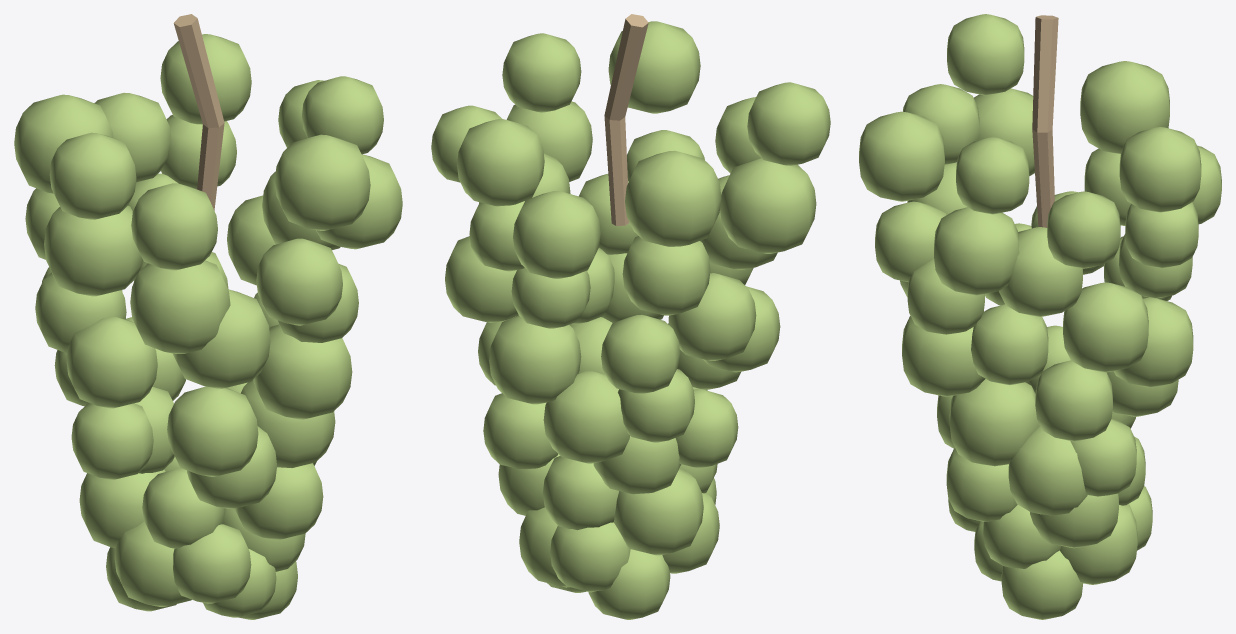
File: fresh-produce-and-groceries-grapes-green-bunch-e1f5c8d1__24347.glb
The picture shows the model from 3 angles, left to right: view 1: azimuth 30°, elevation 25°; view 2: azimuth 150°, elevation 25°; view 3: azimuth 270°, elevation 25°; orthographic projection. The views are drawn at different scales.
Visible parts, largest first — view 1: grapes-green-bunch; view 2: grapes-green-bunch; view 3: grapes-green-bunch.
Boxes of the visible parts, bbox=[...] form: grapes-green-bunch: bbox=[14, 14, 402, 619]; grapes-green-bunch: bbox=[431, 14, 830, 619]; grapes-green-bunch: bbox=[859, 14, 1221, 619].
Size of the model in its own units: 0.0824 by 0.137 by 0.0786.
